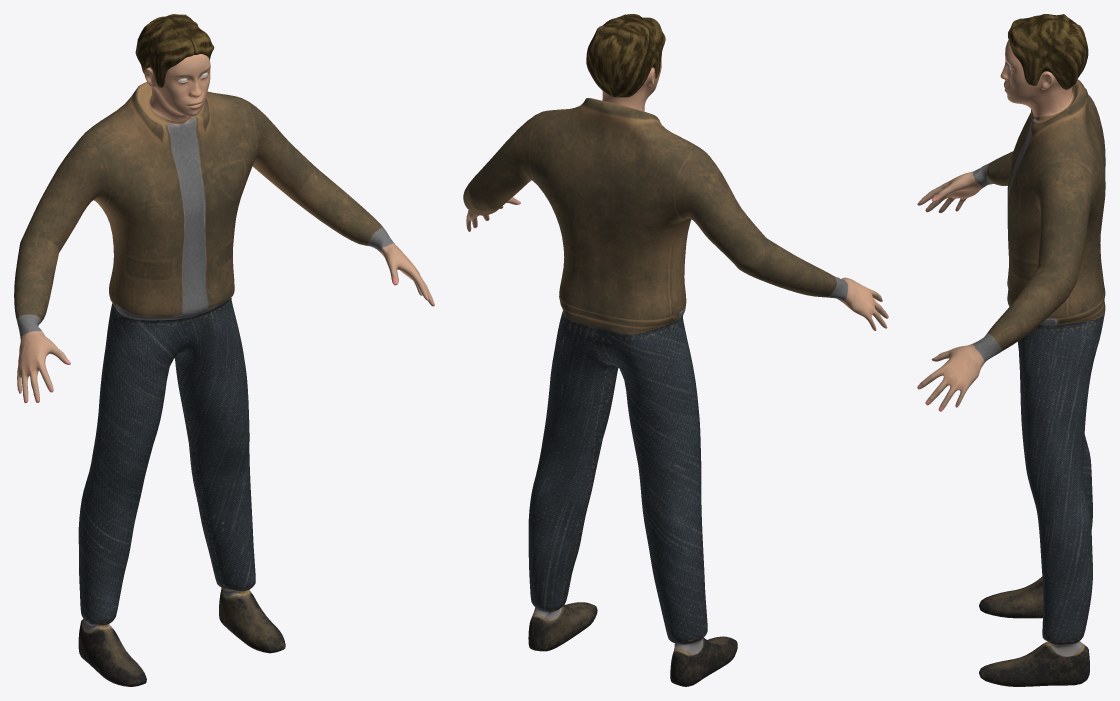
Rendered from MC_clean.fbx.
3 views of the same model, side by side, from view 1: azimuth 30°, elevation 25°; view 2: azimuth 150°, elevation 25°; view 3: azimuth 270°, elevation 25° (orthographic).
Visible parts, largest first — view 1: Cube; view 2: Cube; view 3: Cube.
Part boxes in pixels (x1,y1,x2,y2): Cube: (14,14,434,686); Cube: (463,14,888,686); Cube: (917,14,1105,686).
Bounding box in the file's own units: 122 × 180 × 48.69.
Materials: 1 (1 with a texture image).
